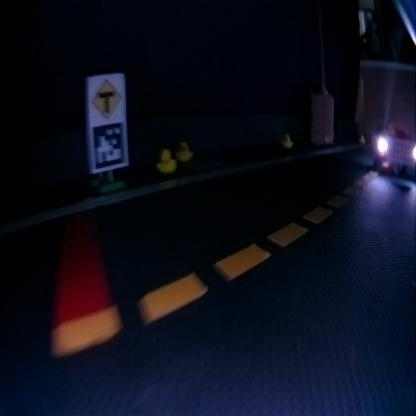Duckie: (157, 148, 175, 172), (178, 142, 192, 160), (282, 134, 292, 148)
Duckiebot: (372, 126, 414, 173)
Intersection sign: (90, 76, 123, 118)
QR code: (89, 121, 124, 168)
